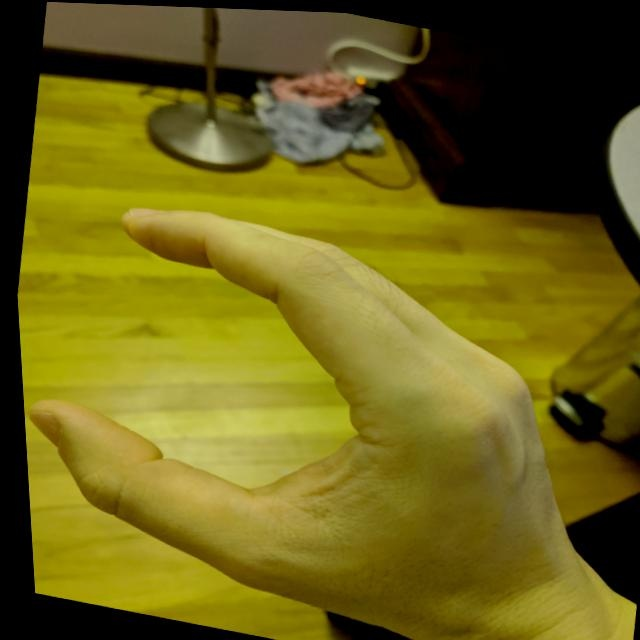C: (8, 175, 627, 639)
